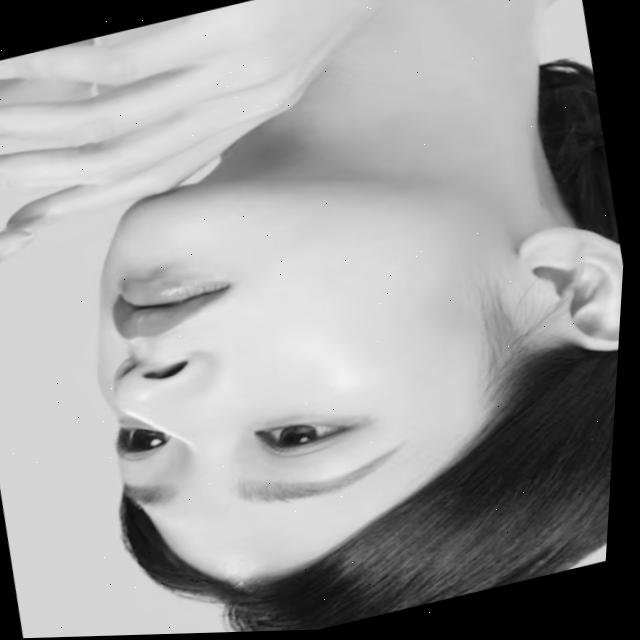natural: (55, 92, 608, 615)
